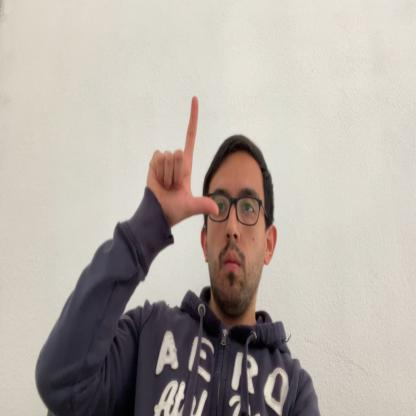L: (146, 95, 219, 226)
